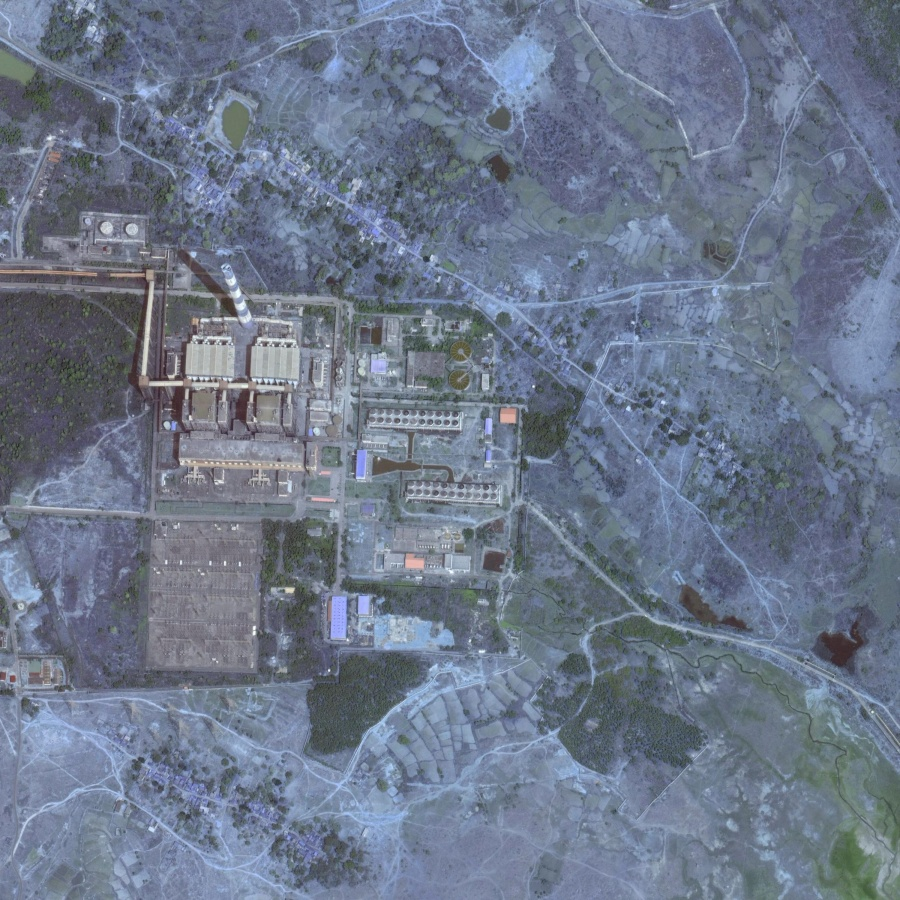PowerPlant: (152, 224, 306, 357)
